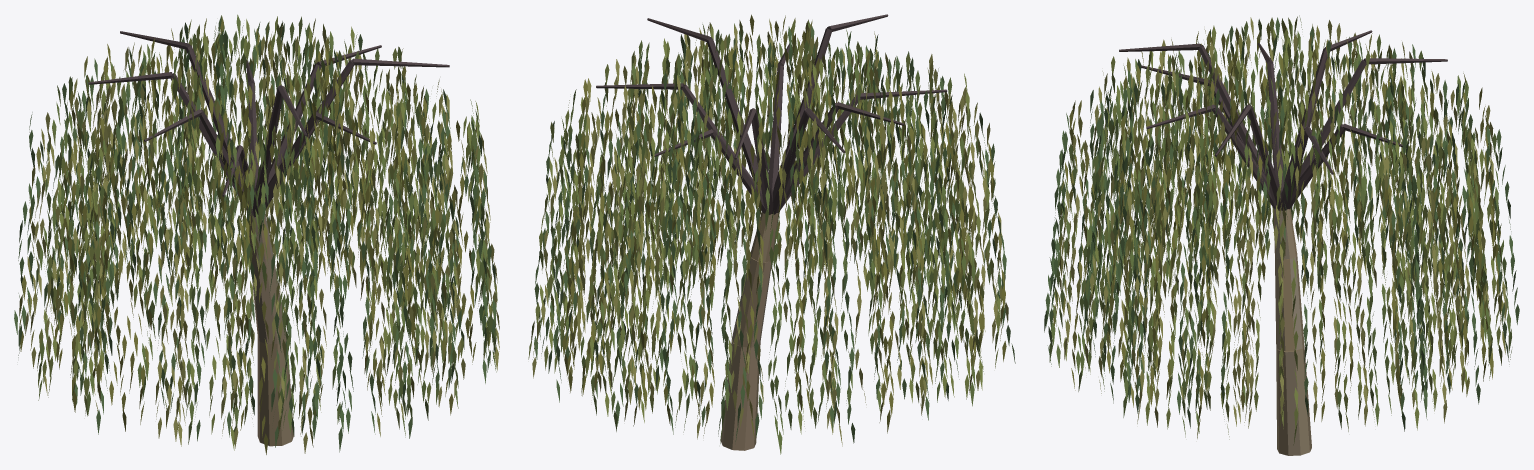
File: ART_StreetWillow.glb
3 views of the same model, side by side, from view 1: azimuth 30°, elevation 25°; view 2: azimuth 150°, elevation 25°; view 3: azimuth 270°, elevation 25° (orthographic). The views are drawn at different scales.
Parts seen in each view (by area): view 1: ART_StreetWillow; view 2: ART_StreetWillow; view 3: ART_StreetWillow.
Part boxes in pixels (x1,y1,x2,y2): ART_StreetWillow: [14, 14, 499, 454]; ART_StreetWillow: [528, 14, 1015, 454]; ART_StreetWillow: [1044, 15, 1519, 455].
Bounding box in the file's own units: 11.12 × 10.61 × 11.23.
